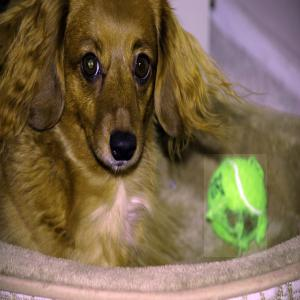TennisBall: (205, 155, 269, 259)
